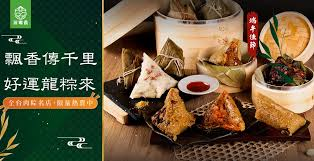zongzi: (150, 88, 195, 140), (130, 53, 177, 98), (202, 90, 245, 131), (253, 94, 298, 130), (154, 38, 184, 76), (116, 48, 141, 88), (208, 40, 241, 66), (193, 0, 231, 19), (168, 0, 196, 19)
